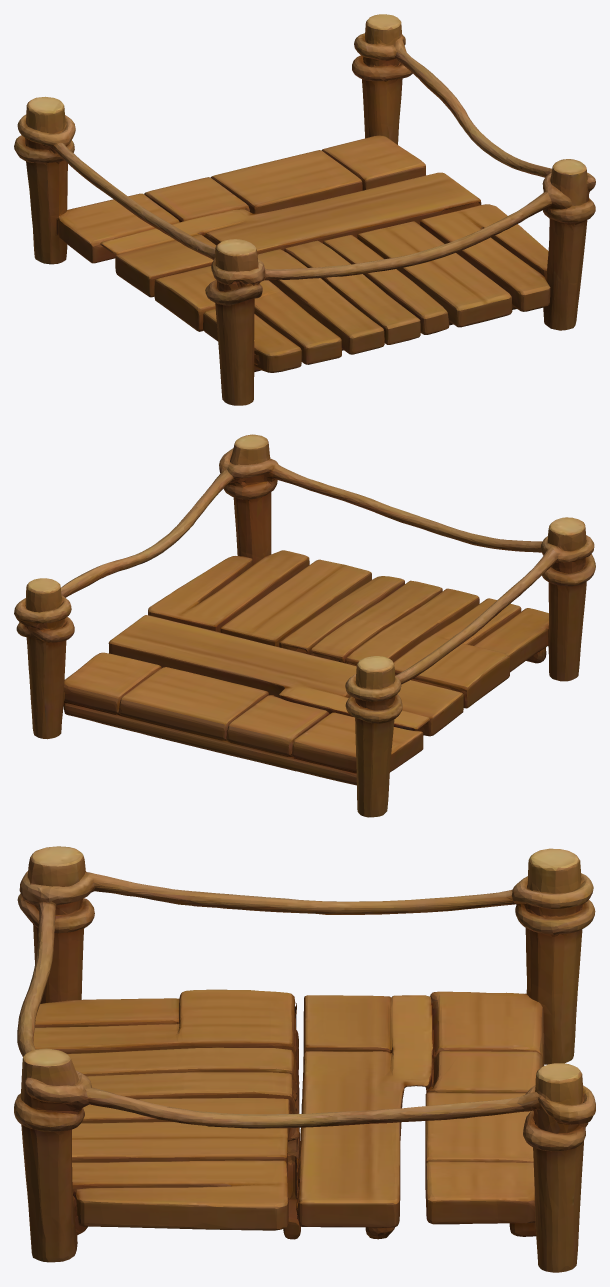
The model's file is dock_dead-end.glb.
3 renders of one model, top to bottom at view 1: azimuth 30°, elevation 25°; view 2: azimuth 150°, elevation 25°; view 3: azimuth 270°, elevation 25°, orthographic. The views are drawn at different scales.
Visible parts, largest first — view 1: world; view 2: world; view 3: world.
Boxes of the visible parts, x1,y1,x2,y2 form: world: [14, 14, 595, 405]; world: [14, 434, 595, 817]; world: [14, 846, 595, 1272].
Size of the model in its own units: 0.9994 by 0.3823 by 0.9992.
1 material, 1 textured.
